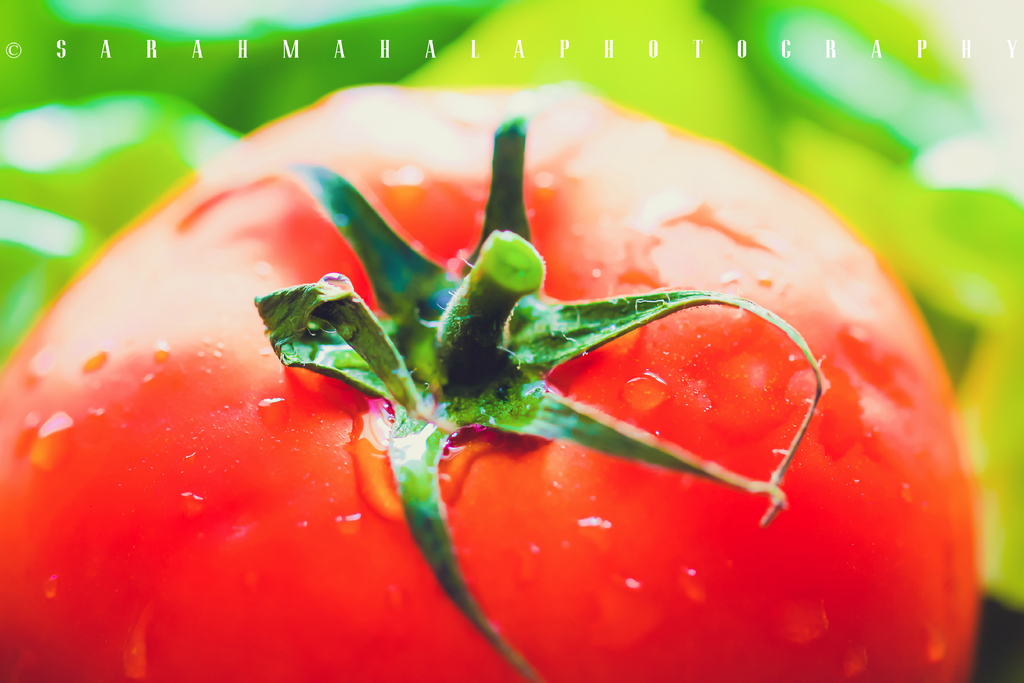Tomato: (0, 74, 993, 682)
